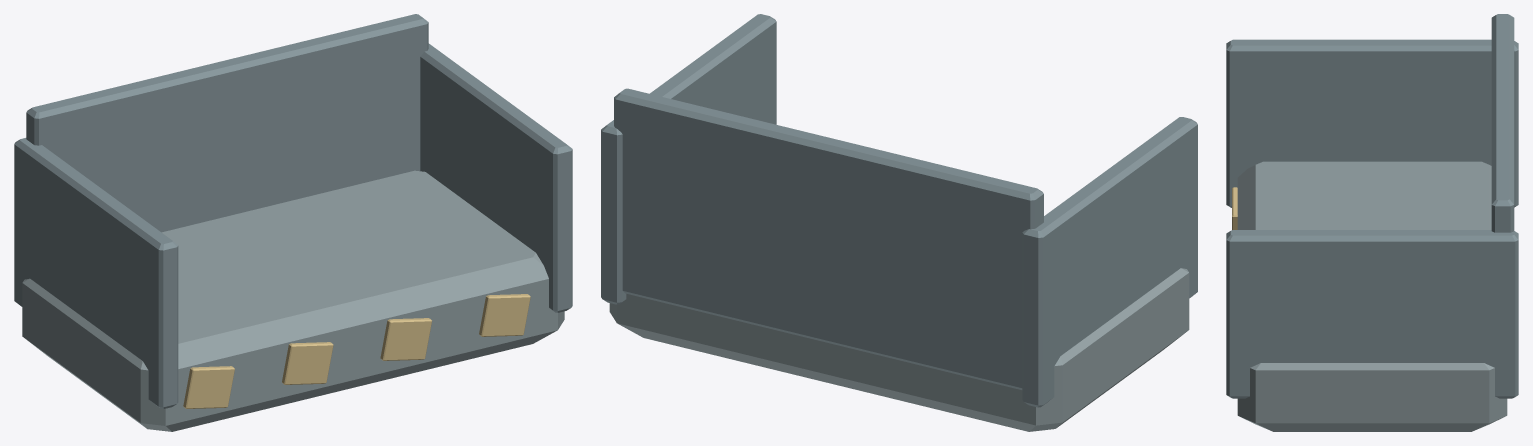
File: scrap_bin.glb
The picture shows the model from 3 angles, left to right: view 1: azimuth 30°, elevation 25°; view 2: azimuth 150°, elevation 25°; view 3: azimuth 270°, elevation 25°; orthographic projection. The views are drawn at different scales.
Parts seen in each view (by area): view 1: scrap_bin; view 2: scrap_bin; view 3: scrap_bin.
Part boxes in pixels (x1,y1,x2,y2): scrap_bin: (14,14,572,431); scrap_bin: (601,14,1197,431); scrap_bin: (1226,14,1518,431).
Size of the model in its own units: 2.15 by 1.13 by 1.3.
